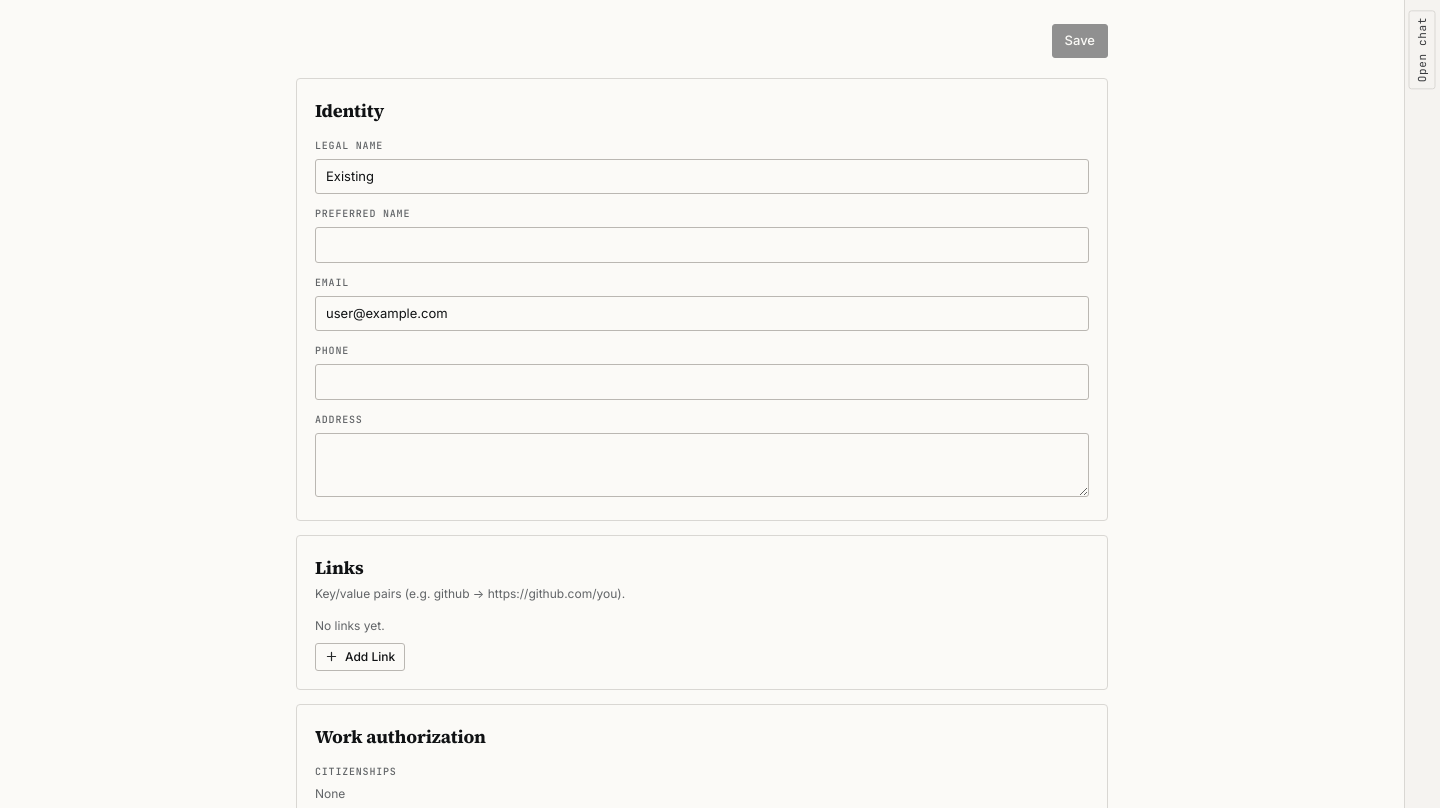
Test case: server 422 with field error renders an inline error
The image size is (1440, 808).
Step 1. Replace the text in the field labelled "Email" with "not-an-email" → (702, 313), box [315,296,1089,331]
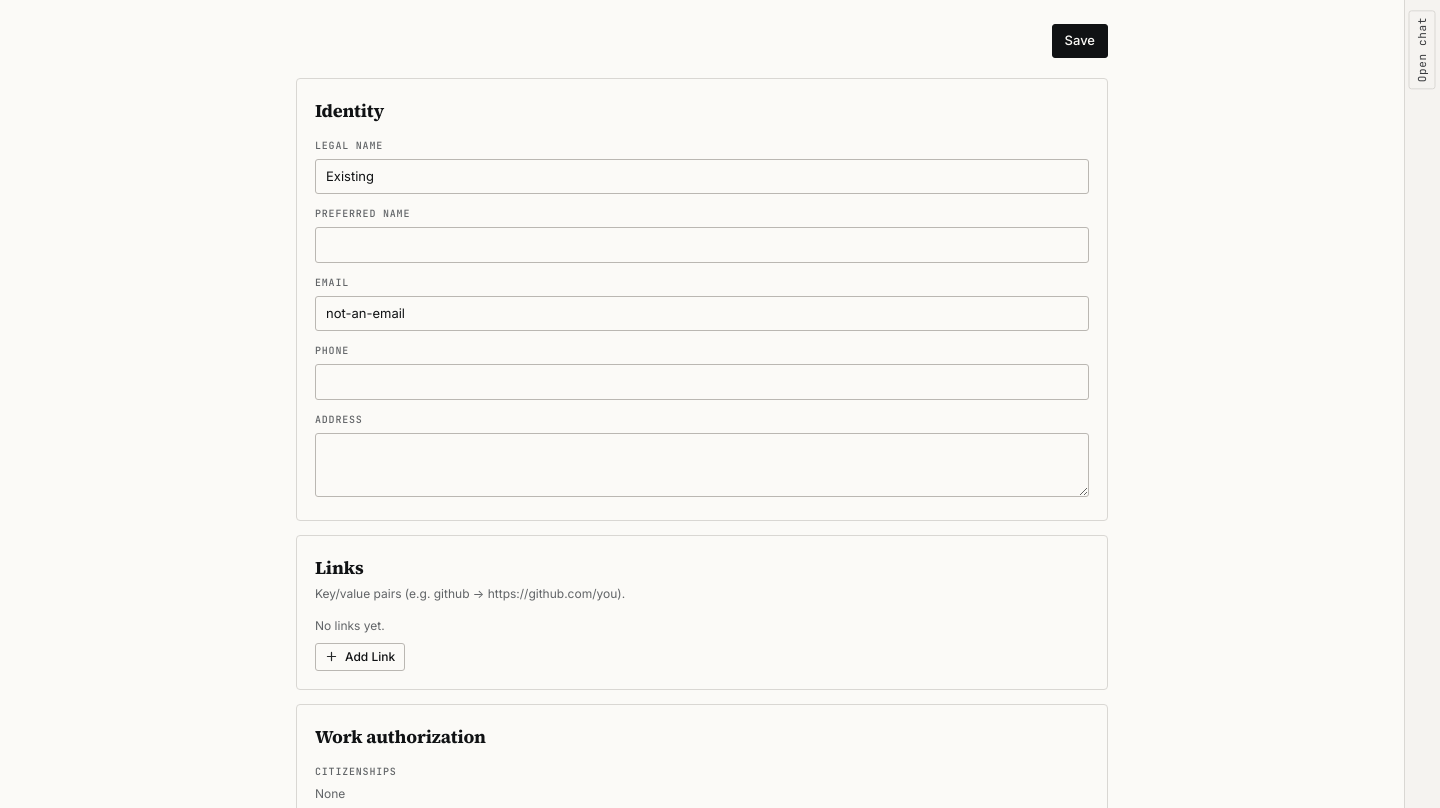
Step 2. Click the button "Save" → (1080, 41), box [1052,24,1108,58]
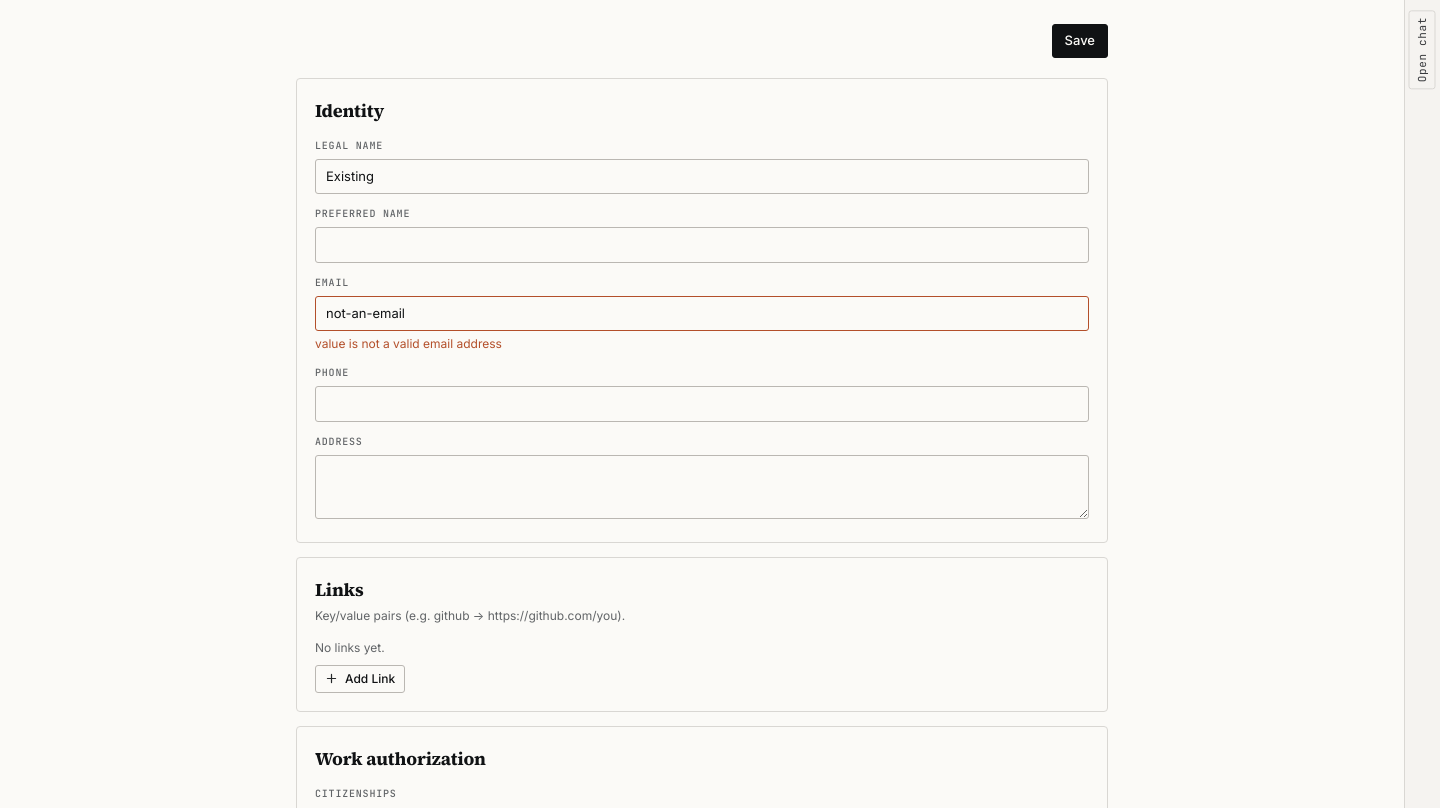
Check: the text "value is not a valid email address" is shown, box [315,336,502,351]
